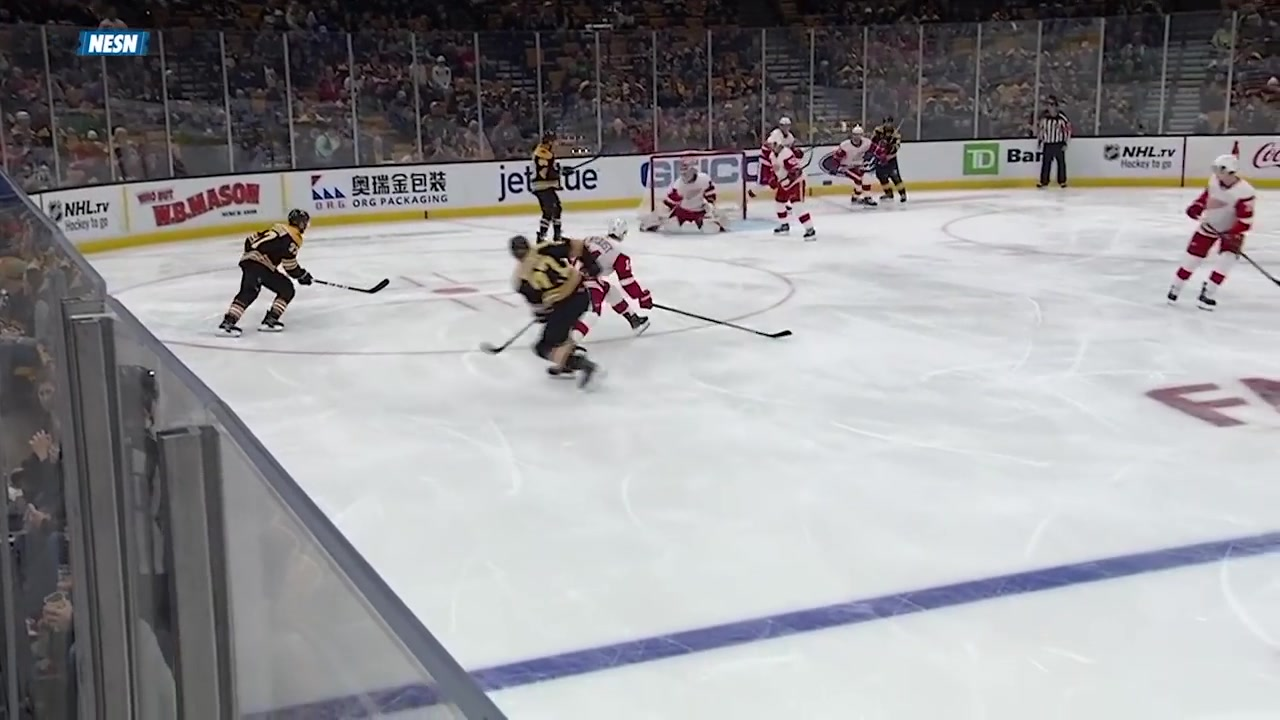Geico: (639, 149, 767, 197)
